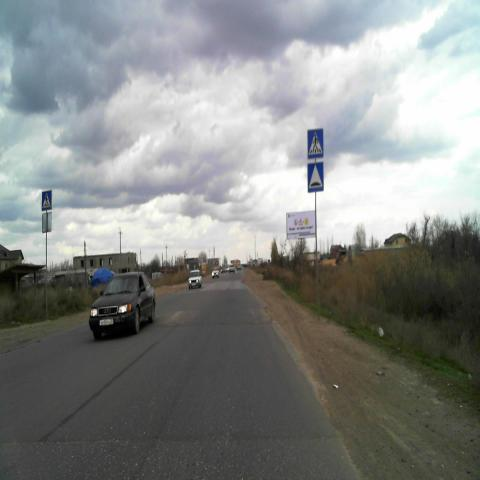5_19_1: (307, 128, 323, 157), (42, 191, 52, 210)
5_20: (308, 163, 324, 192)
